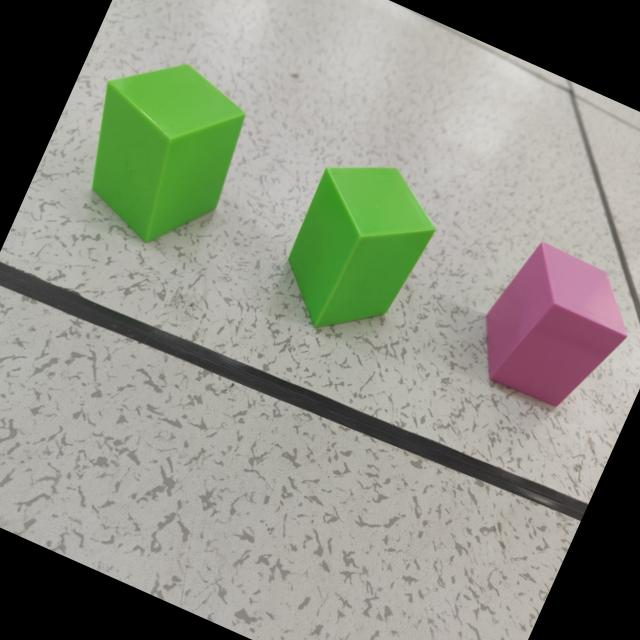green: (90, 65, 245, 245), (287, 167, 435, 330)
pink: (485, 242, 627, 409)
